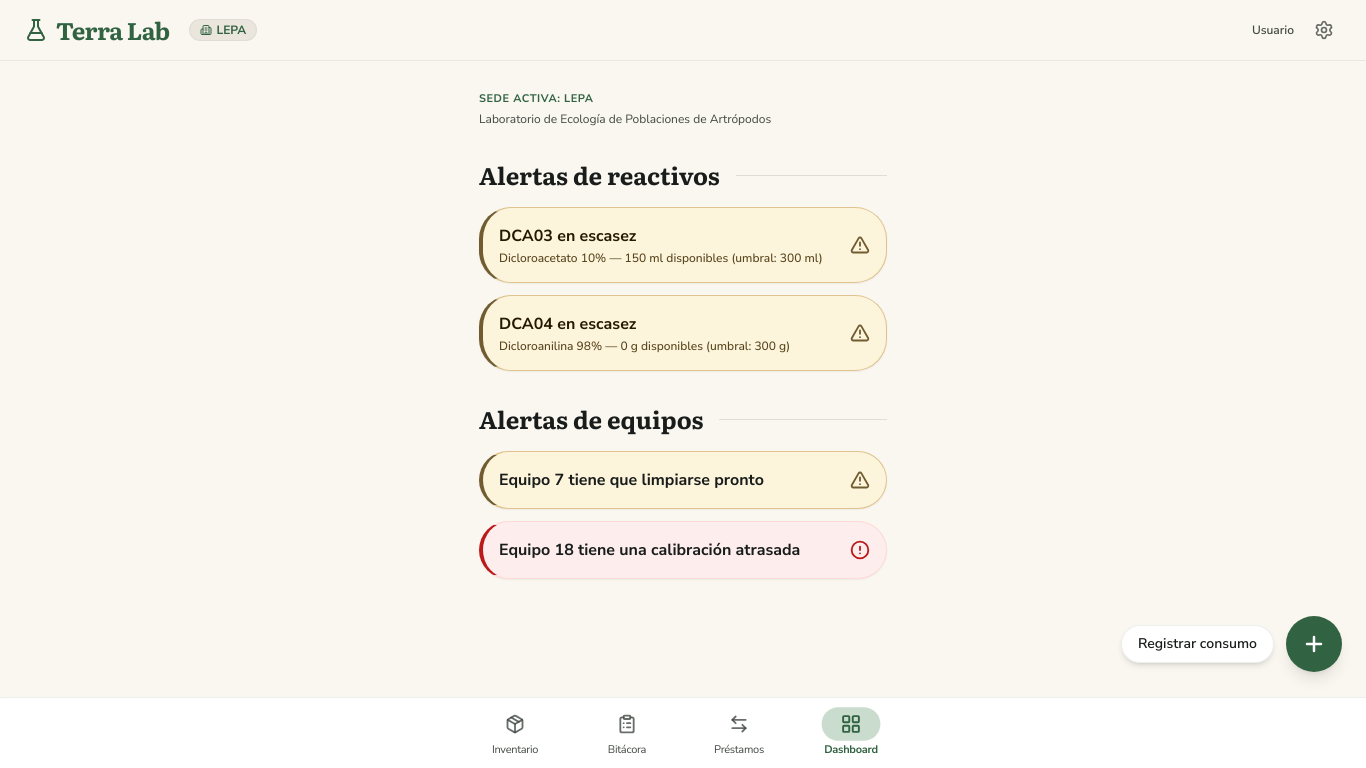
DashboardView Component › opens and closes settings modal
Expected: the text "DCA03 en escasez" is shown, [499,225,636,247]
Click the button named "Configuración". click: click(1324, 30)
box: [1306,12,1342,48]
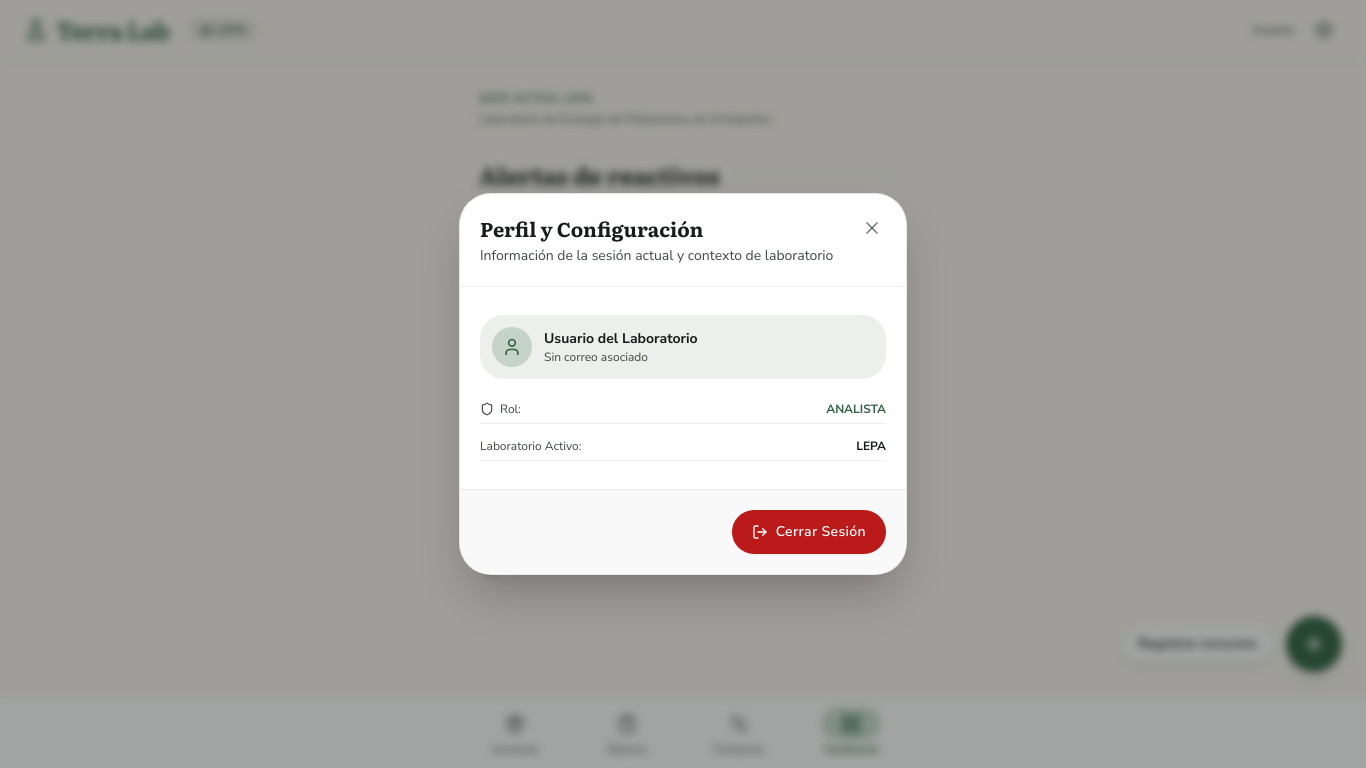
Result: the heading "Perfil y Configuración" is shown at [480,213,704,243]
Result: the button "Cerrar Sesión" is shown at [732,510,886,554]
Click the button named "Cerrar modal". click: click(872, 228)
box: [858,214,886,242]
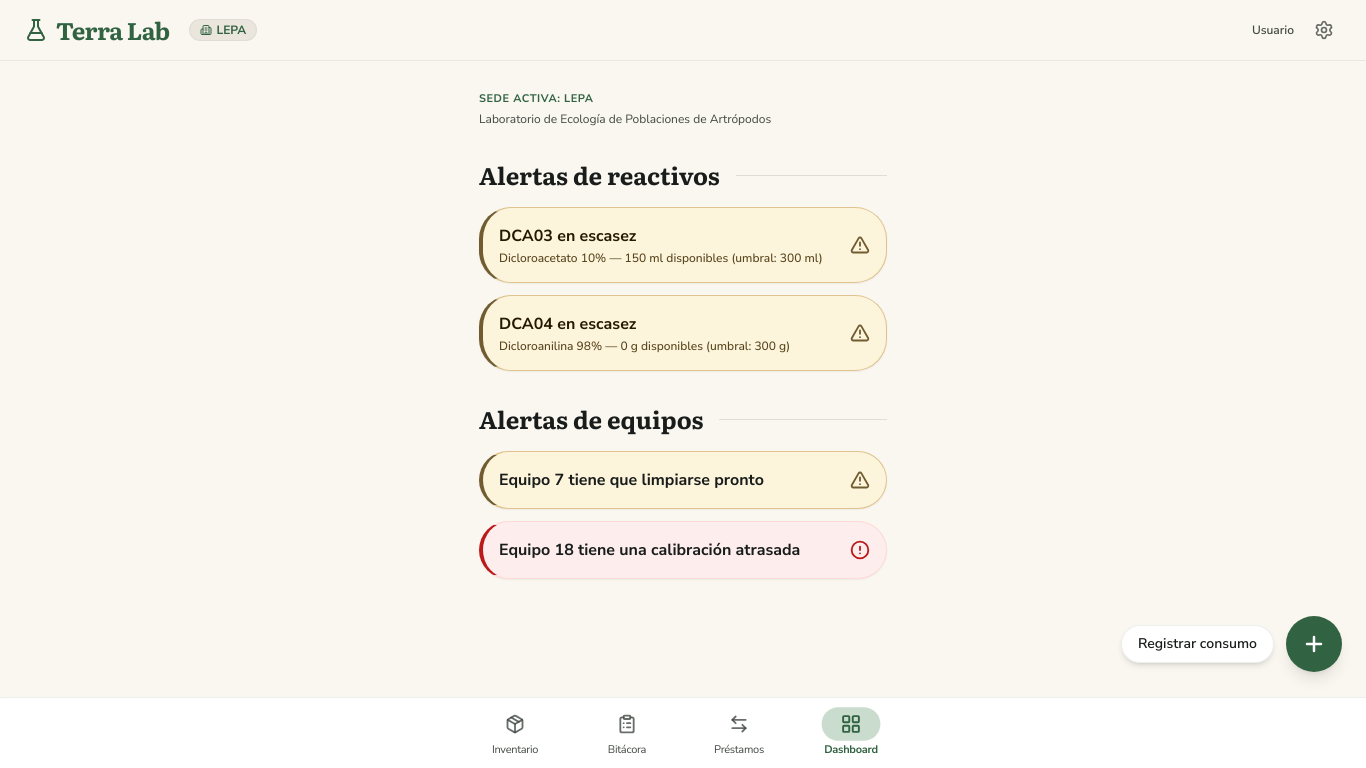
Result: the heading "Perfil y Configuración" is gone
